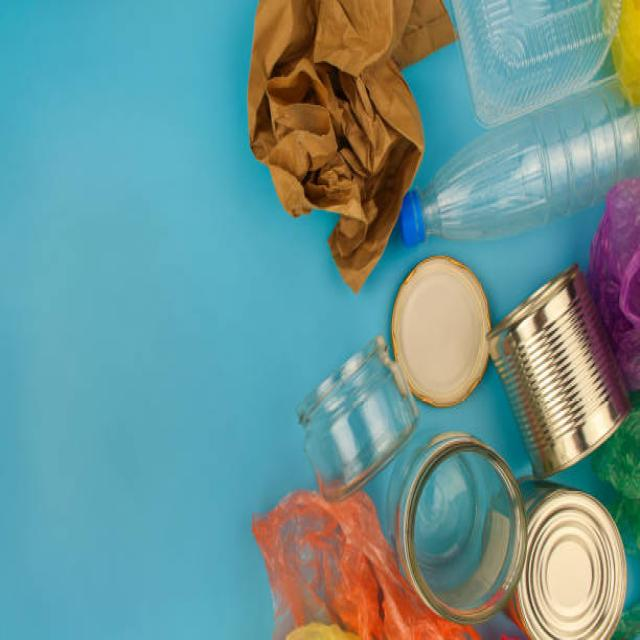glass: (405, 417, 499, 640)
metal: (504, 279, 624, 471), (522, 485, 623, 638), (394, 252, 486, 393)
paper: (238, 11, 404, 274)
plastic: (457, 2, 637, 243)
